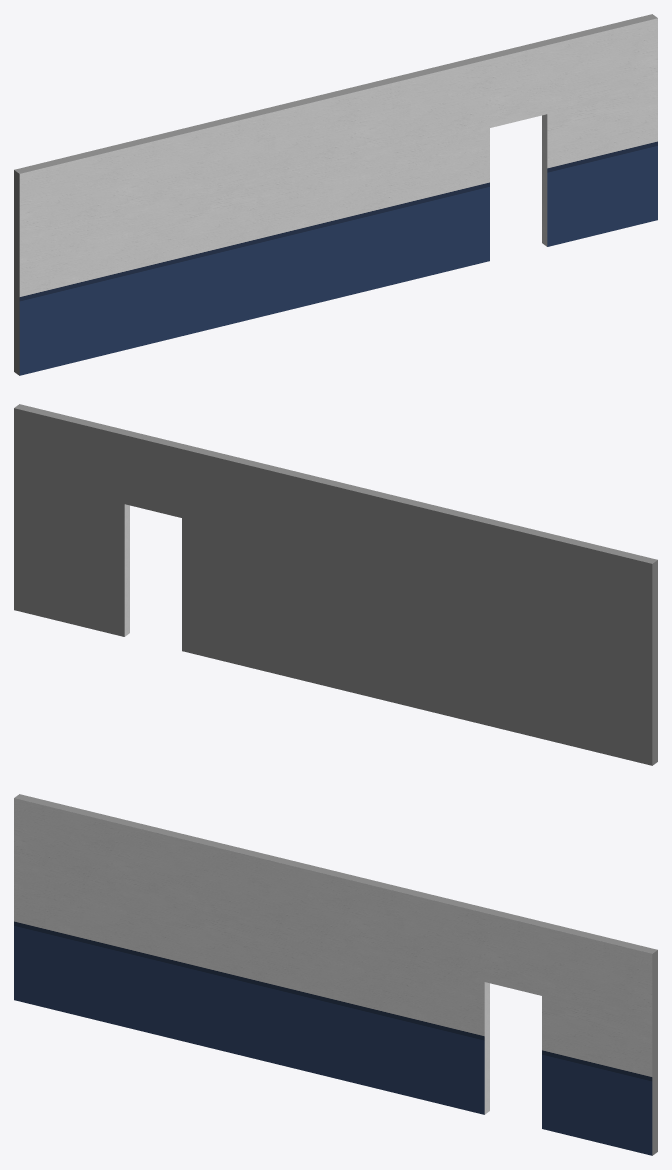
File: Wall 4.FBX
The picture shows the model from 3 angles, top to bottom: view 1: azimuth 30°, elevation 25°; view 2: azimuth 150°, elevation 25°; view 3: azimuth 330°, elevation 25°; orthographic projection.
Visible parts, largest first — view 1: Wall 4; view 2: Wall 4; view 3: Wall 4.
Boxes of the visible parts, x1=… form: Wall 4: x1=14, y1=14, x2=657, y2=375; Wall 4: x1=14, y1=404, x2=657, y2=765; Wall 4: x1=14, y1=794, x2=657, y2=1155.
Size of the model in its own units: 1015 by 307 by 15.29.
Materials: 2 (1 with a texture image).
